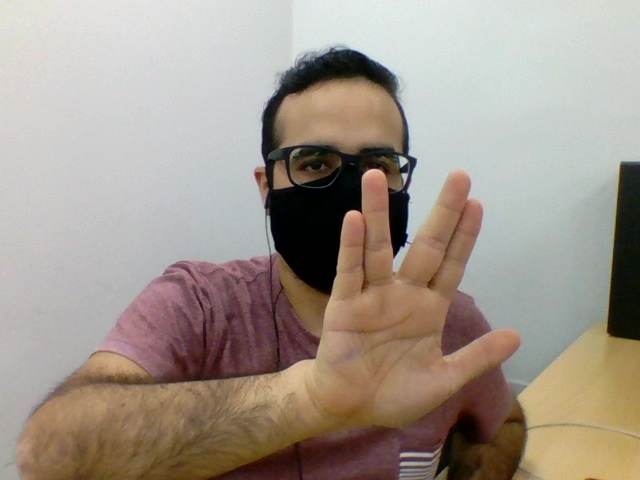LiveLong: (309, 168, 522, 431)
